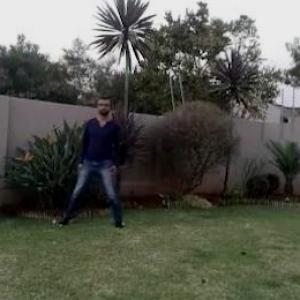follow: (82, 86, 122, 224)
